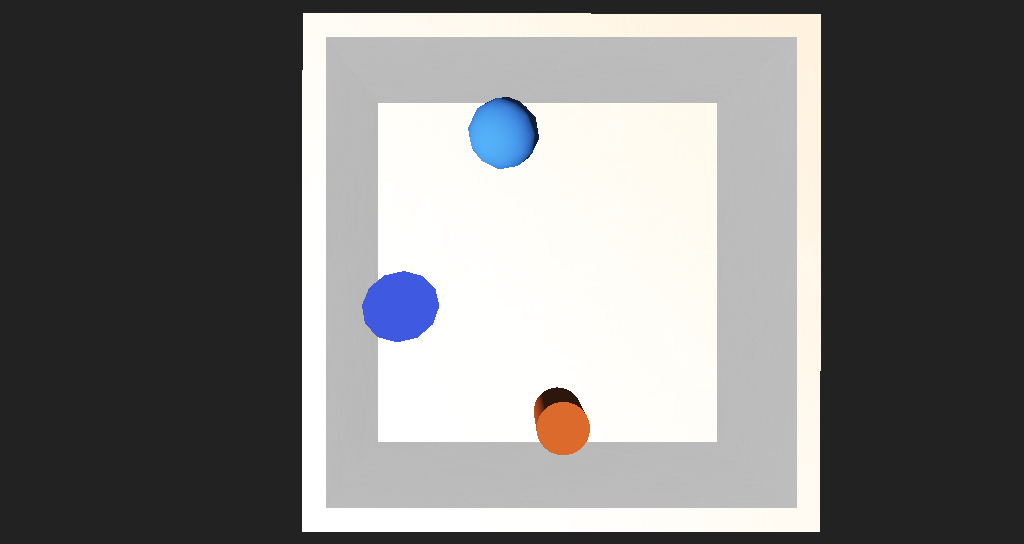cone: (495, 341, 542, 384)
cylinder: (340, 270, 414, 332)
sphere: (431, 157, 499, 205)
